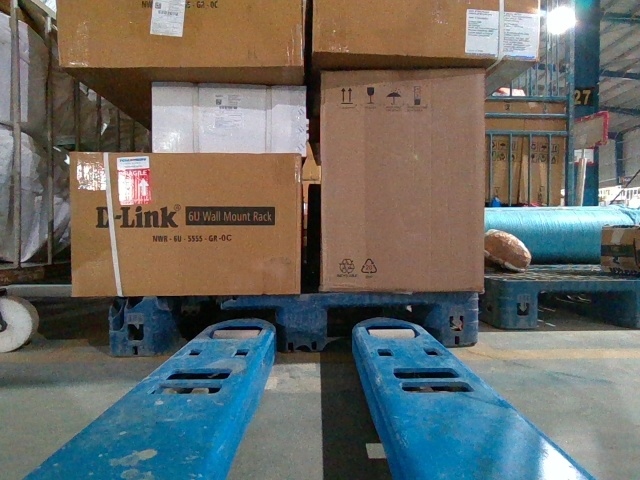block: (106, 298, 172, 359), (279, 294, 329, 354), (434, 290, 479, 344), (500, 281, 538, 331)
front: (110, 291, 477, 353)
hole pallet: (151, 306, 279, 355), (326, 305, 440, 351), (536, 291, 635, 331)
